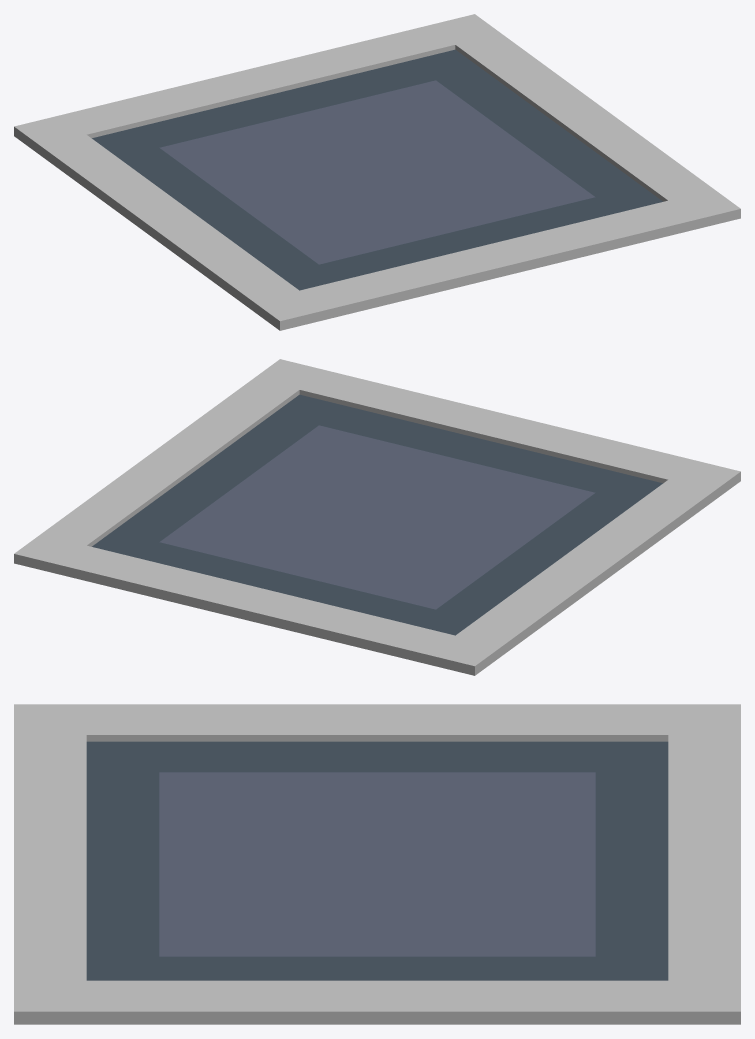
The model's file is SM_Road_Square.fbx.
The picture shows the model from 3 angles, top to bottom: view 1: azimuth 30°, elevation 25°; view 2: azimuth 150°, elevation 25°; view 3: azimuth 270°, elevation 25°; orthographic projection. The views are drawn at different scales.
Parts seen in each view (by area): view 1: SM_Road_Square; view 2: SM_Road_Square; view 3: SM_Road_Square.
Part boxes in pixels (x1,y1,x2,y2): SM_Road_Square: (14,14,740,330); SM_Road_Square: (14,359,740,675); SM_Road_Square: (14,704,740,1024).
Bounding box in the file's own units: 1000 × 20 × 1000.
